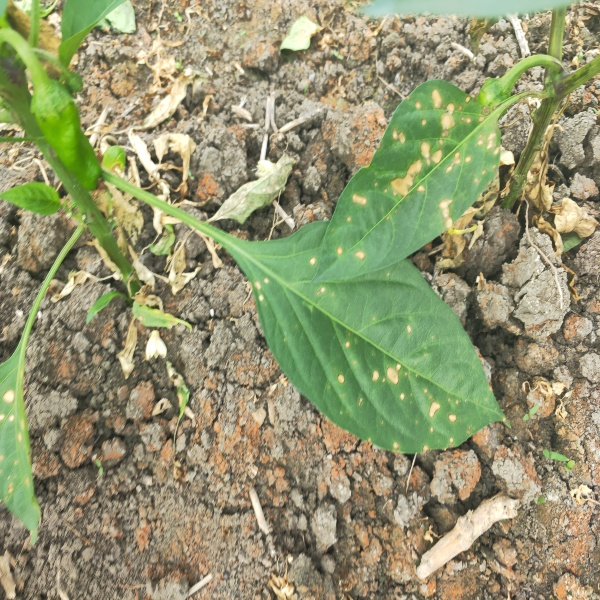Anthrax: (241, 225, 518, 451), (334, 80, 498, 261), (1, 353, 49, 542)
